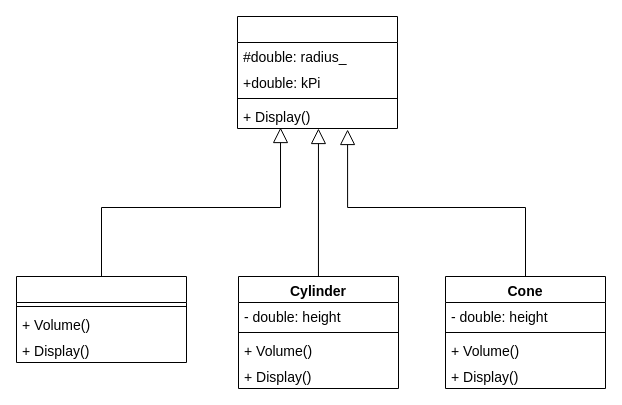
Image size: 622x405. Some labels were removed from this diagram. The box of each missing label's shape, as (x1, y1, x2, y2) in pixels:
RoundShape: (236, 16, 398, 128)
Sphere: (16, 276, 186, 362)
